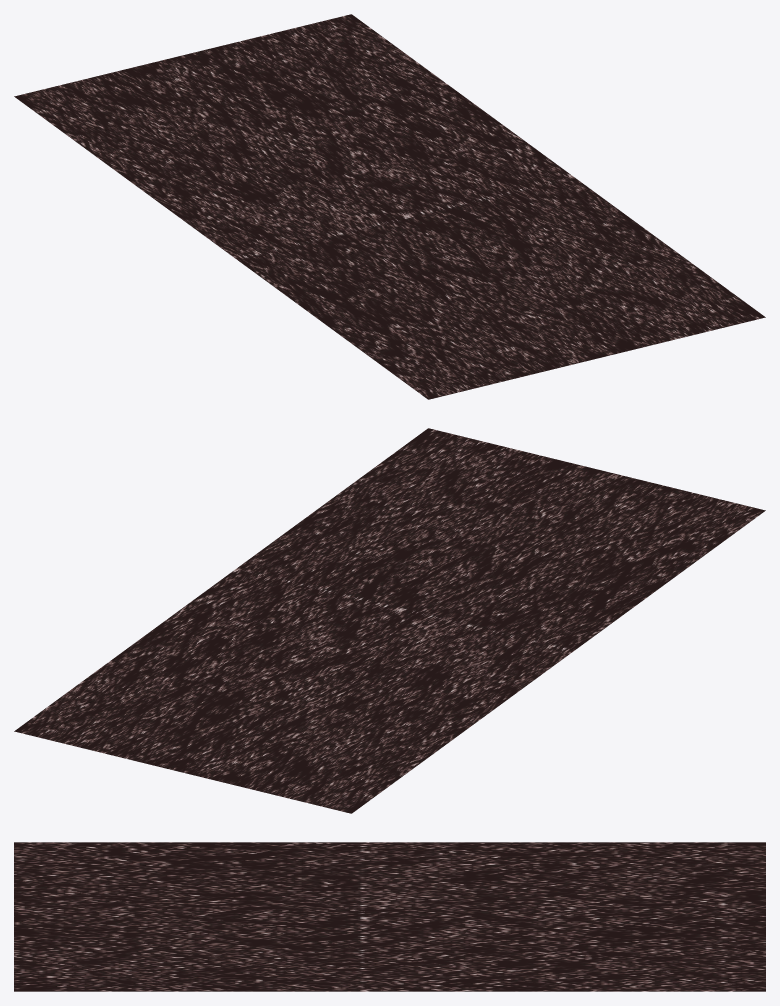
File: MudDecal3.FBX
3 renders of one model, top to bottom at view 1: azimuth 30°, elevation 25°; view 2: azimuth 150°, elevation 25°; view 3: azimuth 270°, elevation 25°, orthographic. The views are drawn at different scales.
Parts seen in each view (by area): view 1: Plane001; view 2: Plane001; view 3: Plane001.
Part boxes in pixels (<box>): Plane001: <box>14,14,765,399</box>; Plane001: <box>14,428,765,813</box>; Plane001: <box>14,842,765,991</box>.
Bounding box in the file's own units: 81.76 × 1.06e-14 × 174.
Materials: 1 (1 with a texture image).
